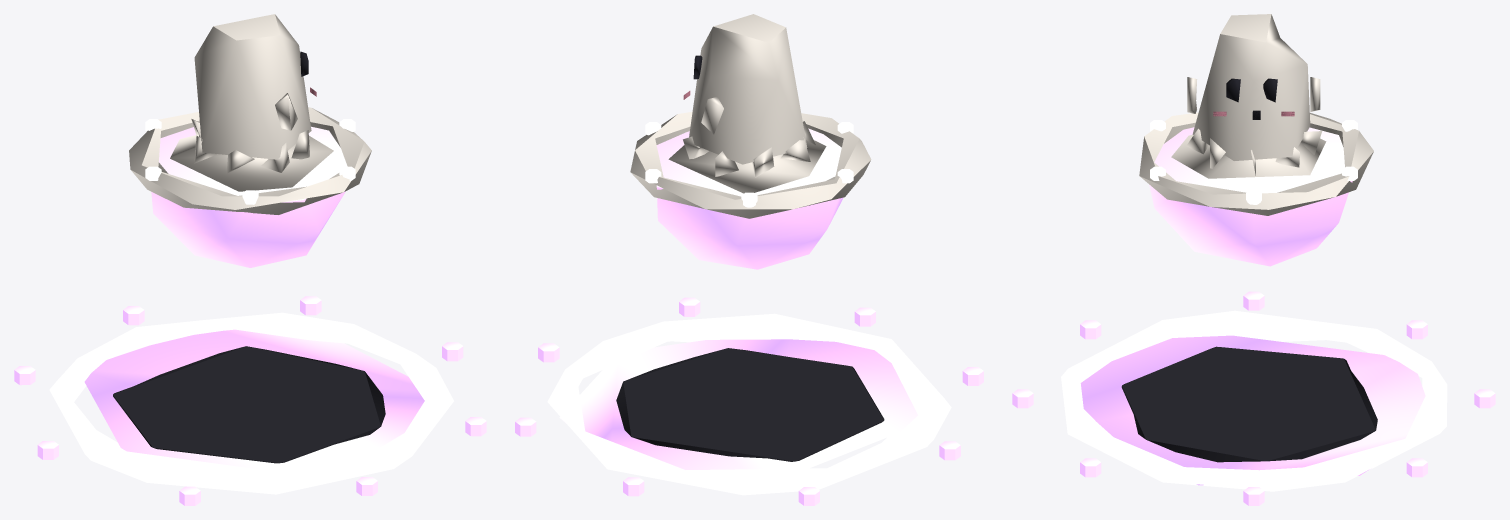
File: pu_ghost.glb
The picture shows the model from 3 angles, left to right: view 1: azimuth 30°, elevation 25°; view 2: azimuth 150°, elevation 25°; view 3: azimuth 270°, elevation 25°; orthographic projection.
Visible parts, largest first — view 1: pu_ghost.002, capsule.006; view 2: pu_ghost.002, capsule.006; view 3: pu_ghost.002, capsule.006.
Part boxes in pixels (<box>): pu_ghost.002: <box>14,296,486,505</box>; capsule.006: <box>129,14,371,267</box>; pu_ghost.002: <box>515,297,983,505</box>; capsule.006: <box>630,14,871,269</box>; pu_ghost.002: <box>1012,291,1495,505</box>; capsule.006: <box>1139,14,1373,266</box>.
Size of the model in its own units: 1.56 by 1.37 by 1.57.
1 material, 1 textured.
